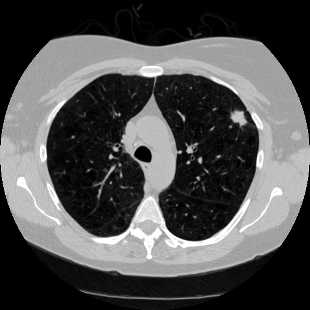nodule: (231, 110, 247, 126)
